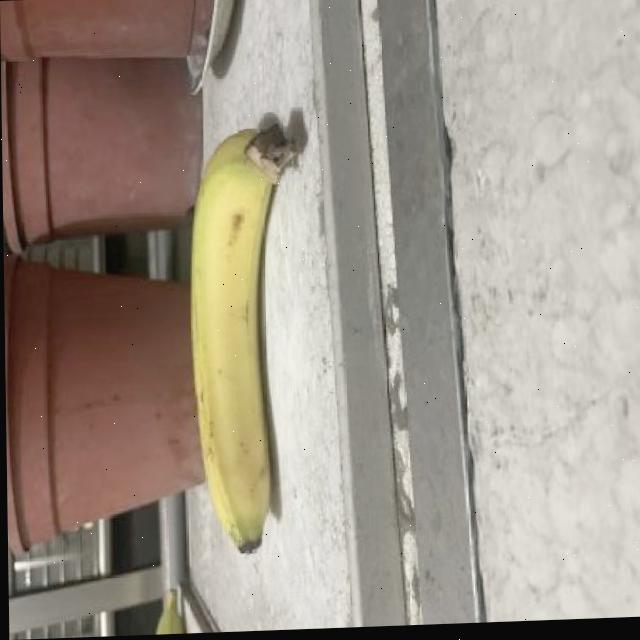banana: (179, 114, 309, 565)
